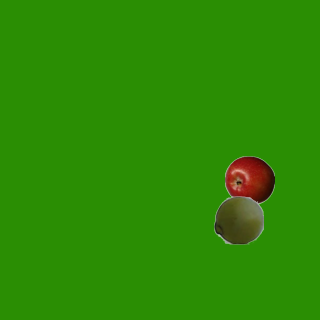Apple Braeburn: (224, 155, 274, 205)
Grape White 4: (213, 194, 263, 244)
